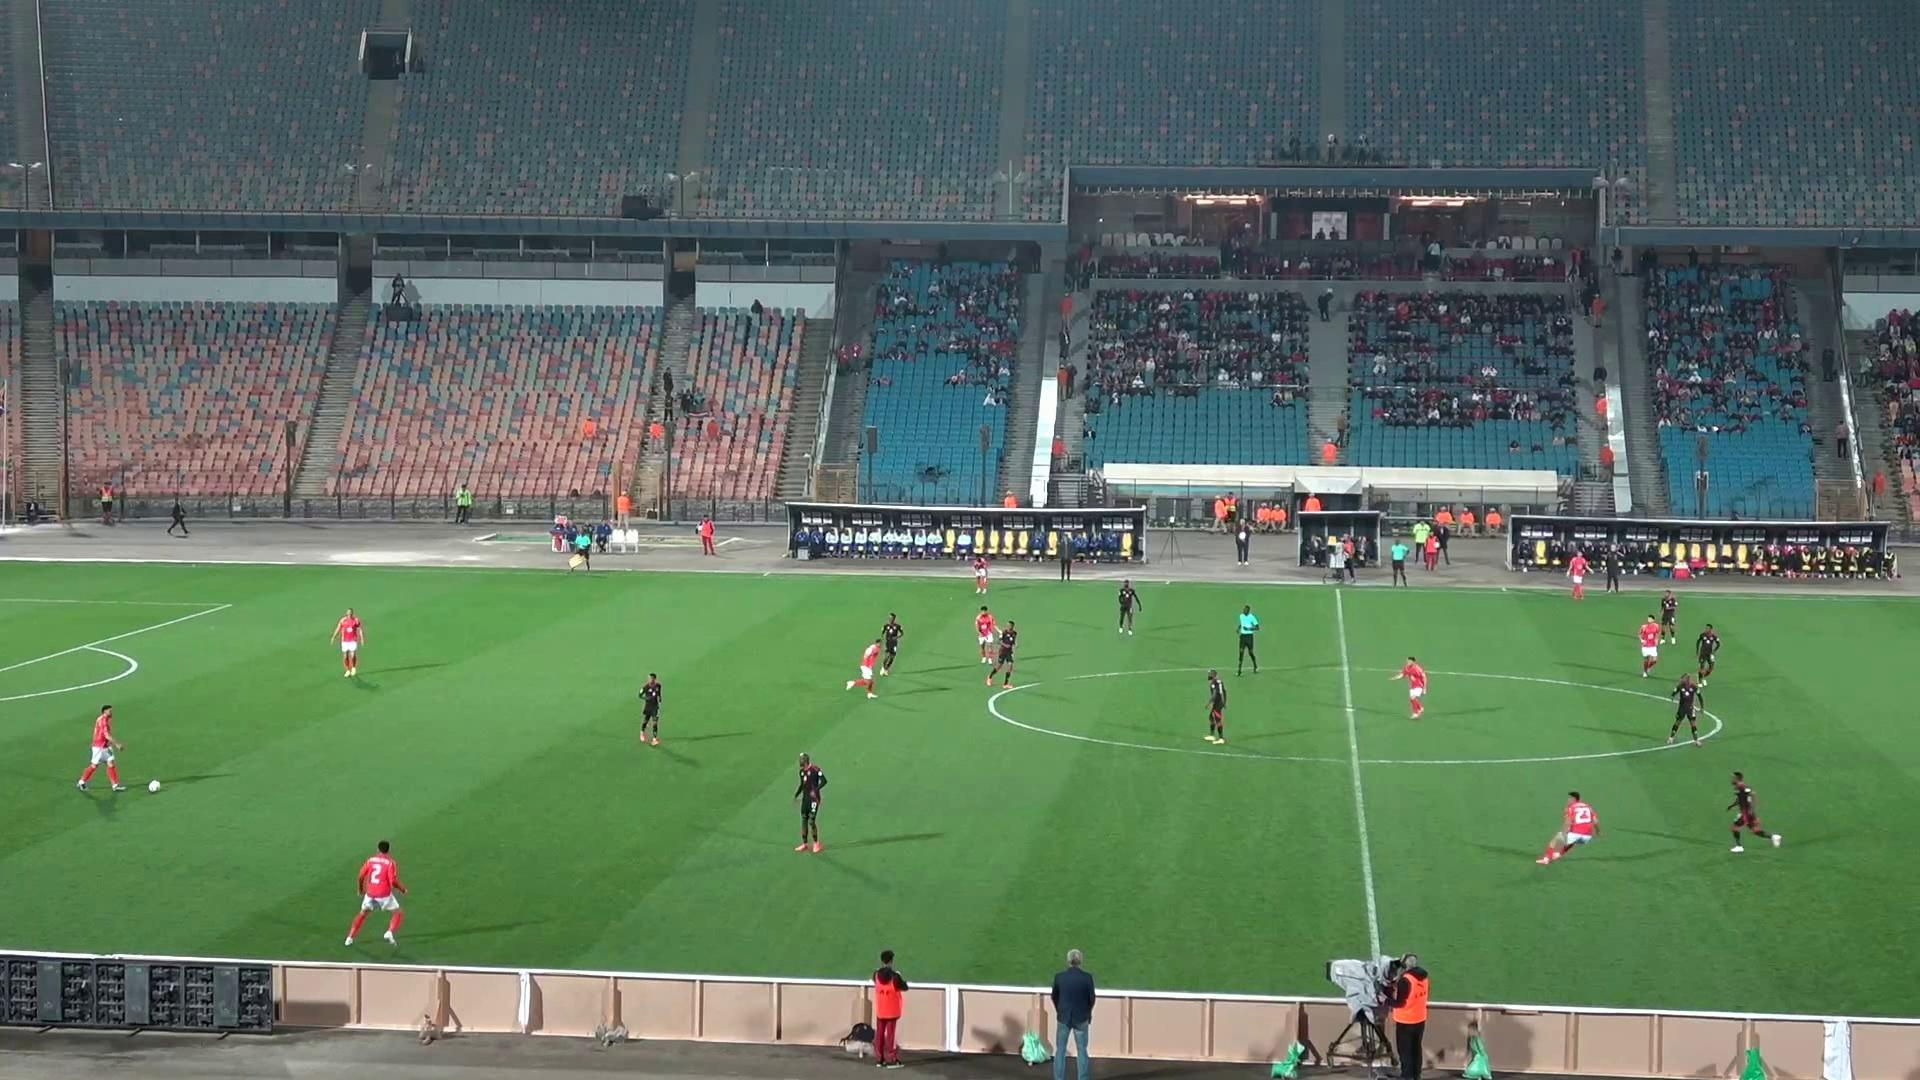Ball: (146, 779, 160, 794)
Refree: (1234, 605, 1261, 674), (564, 526, 596, 571), (1391, 539, 1412, 585)
Team1: (344, 841, 405, 944), (1536, 791, 1598, 865), (76, 705, 124, 790), (332, 609, 364, 676), (1391, 657, 1425, 717), (847, 641, 880, 698), (1639, 616, 1663, 676), (975, 607, 996, 666), (1567, 550, 1590, 600), (973, 554, 989, 593)
Team2: (1727, 770, 1782, 851), (795, 752, 825, 851), (1665, 673, 1705, 744), (986, 621, 1017, 687), (1204, 669, 1226, 742), (878, 613, 905, 674), (640, 673, 662, 744), (1696, 624, 1720, 684), (1117, 579, 1141, 634), (1658, 589, 1679, 642)
